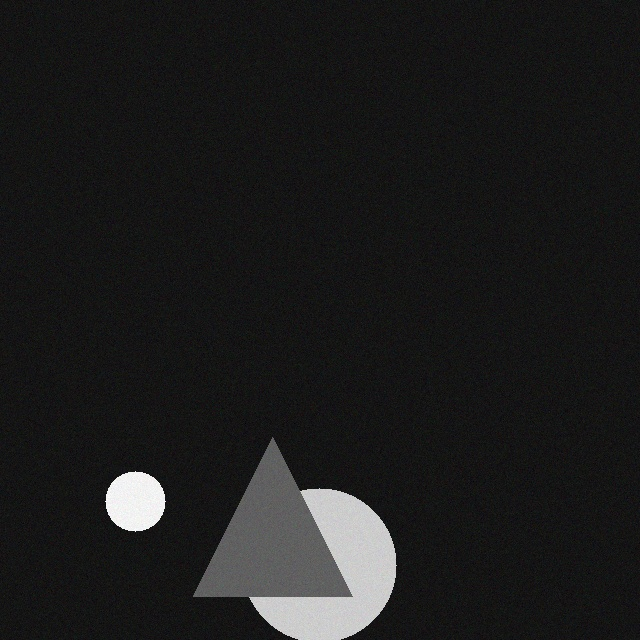circle: (232, 486, 386, 640), (95, 469, 155, 529)
triangle: (183, 435, 342, 594)
